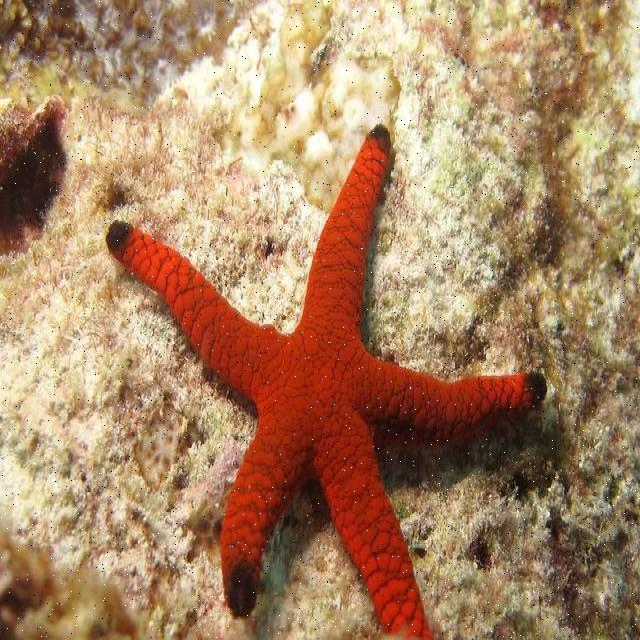reefs: (106, 124, 475, 639)
